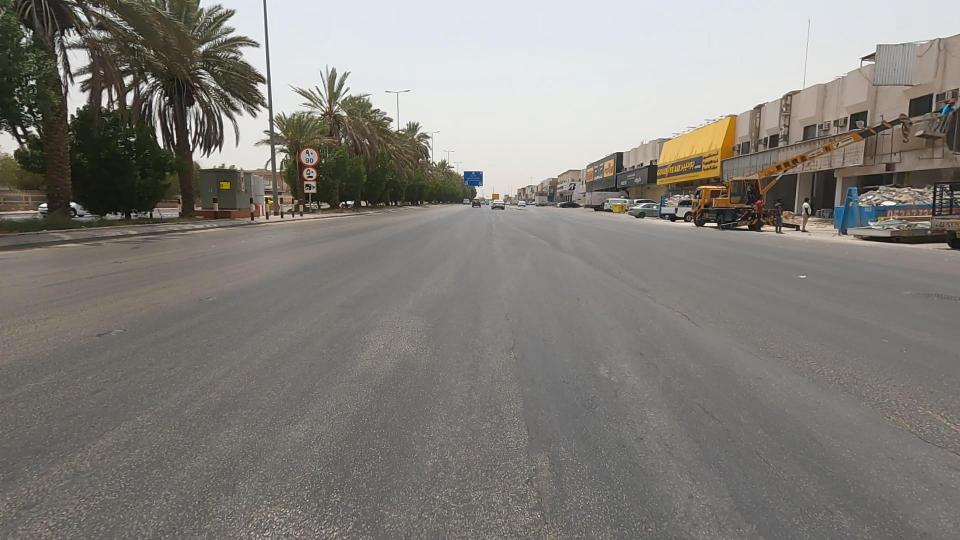BAD_BILLBOARD: (655, 122, 931, 206), (823, 101, 955, 178), (570, 170, 632, 202)
